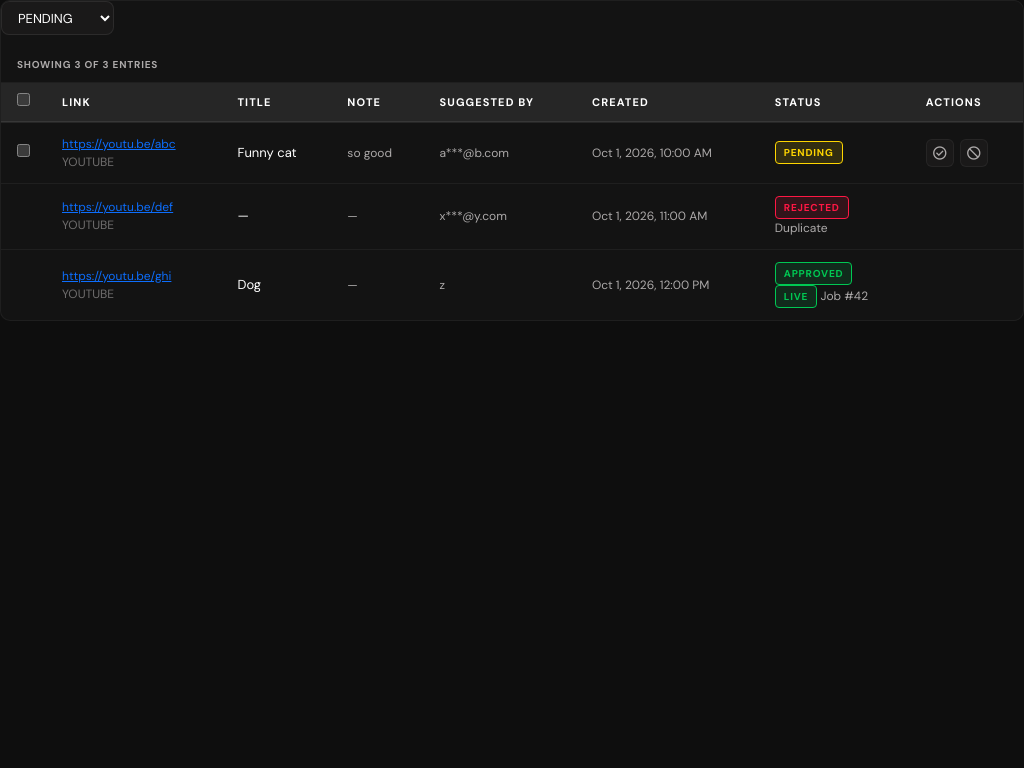
AdminSuggestionTable › renders in English with the notPending message
The width and height of the screenshot is (1024, 768).
Check: the text "Funny cat" is shown, box [221,122,331,183]
Click the button named "Reject": (974, 152) [960,138,988,166]
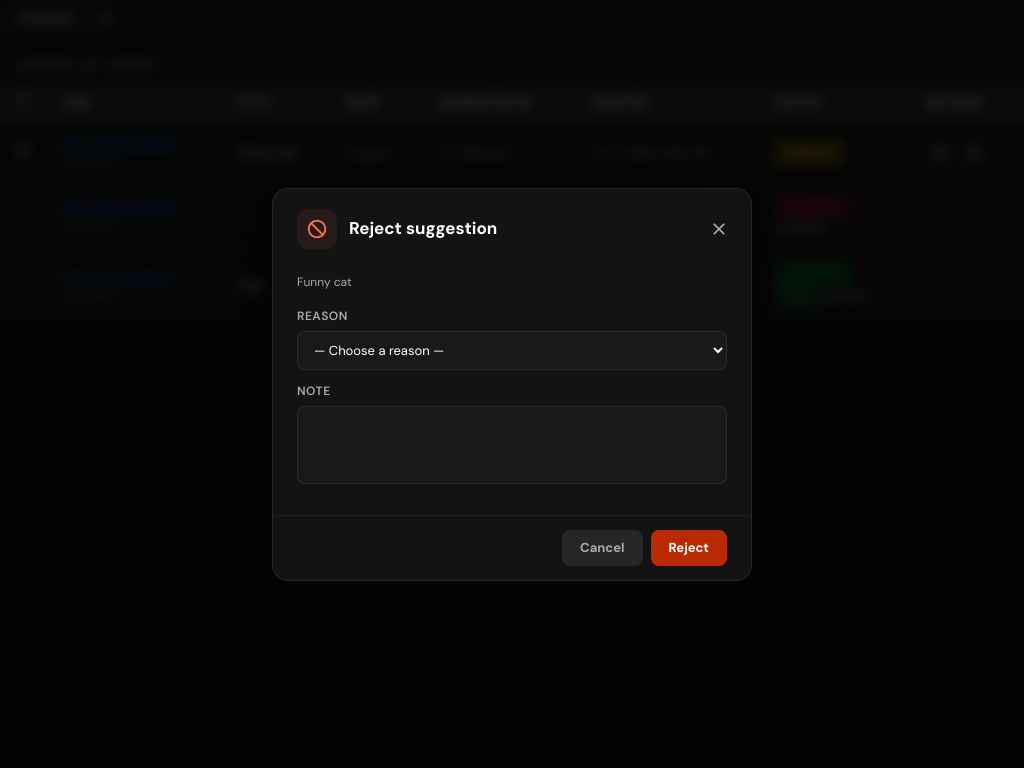
Select "Duplicate" in the dropdown labelled "Reason": (512, 350) [297,330,727,370]
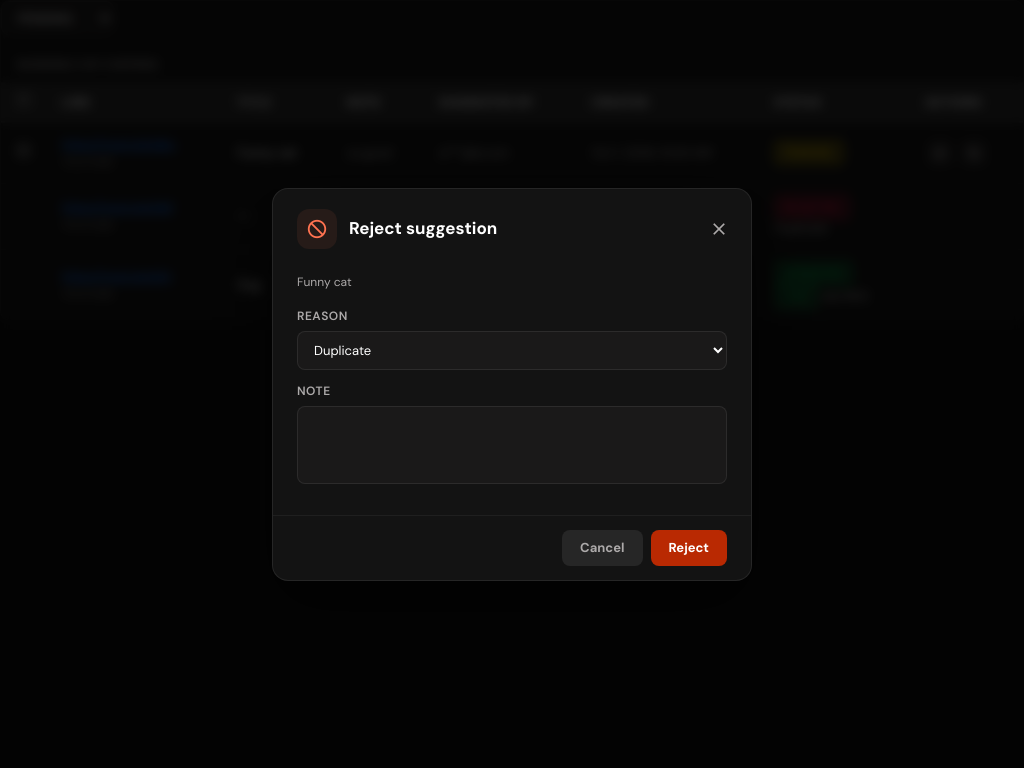
Click the button "Reject": (689, 548) [650,530,727,566]
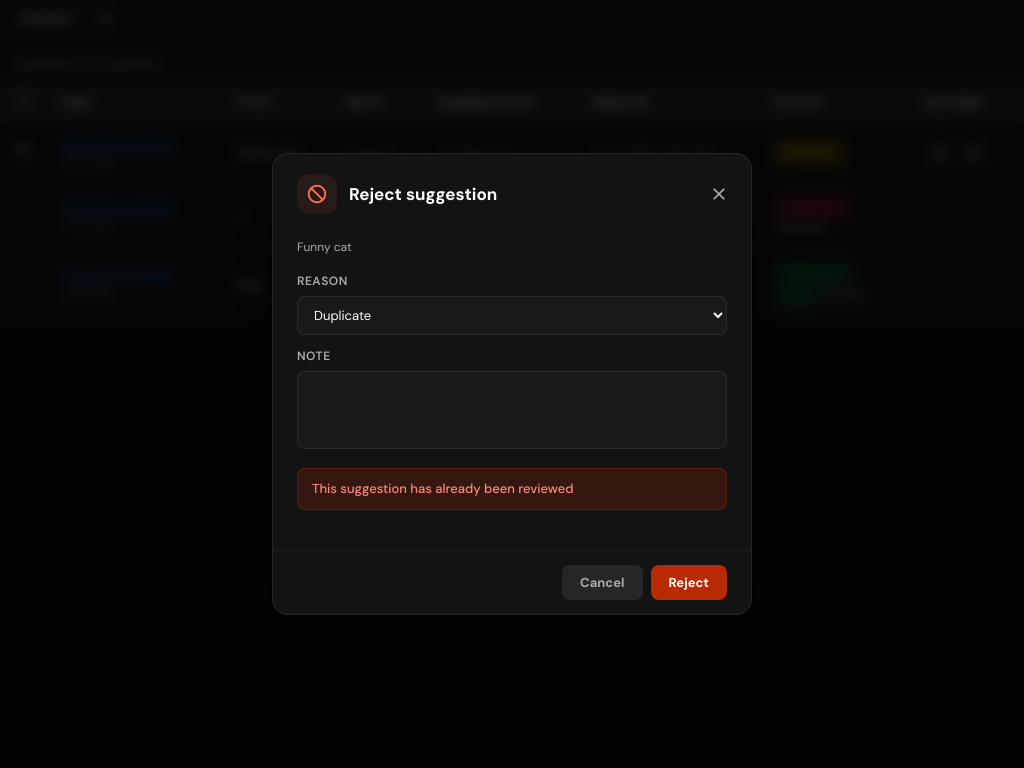
Check: the text "This suggestion has already been reviewed" is shown, box [297,468,727,510]
